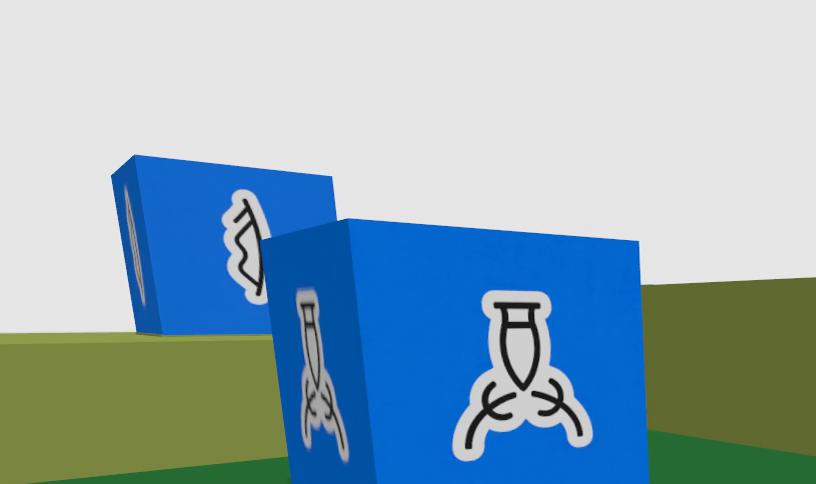KFS_REAL: (264, 219, 647, 484), (113, 155, 335, 333), (452, 290, 592, 461), (295, 287, 349, 462), (222, 189, 270, 304)
